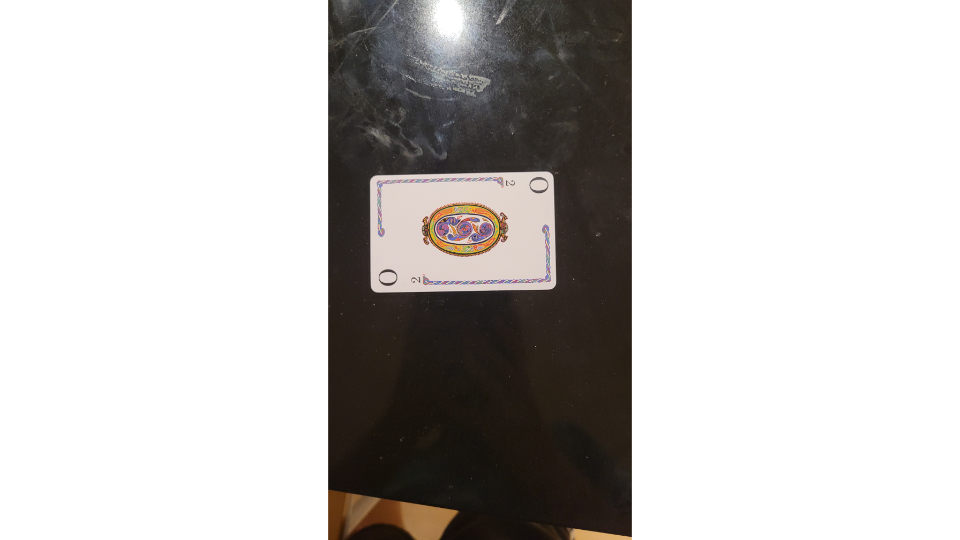O: (367, 167, 561, 297)
